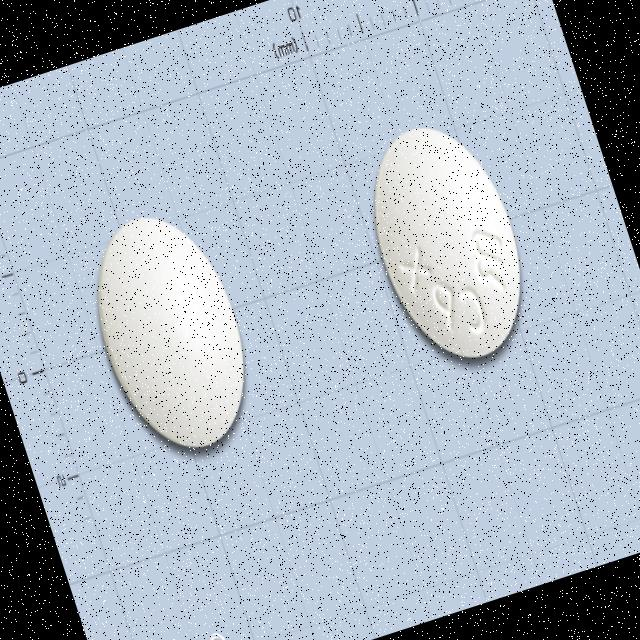Ciprofloxacin Tab- Mirae: (65, 190, 273, 470), (343, 105, 550, 382)
